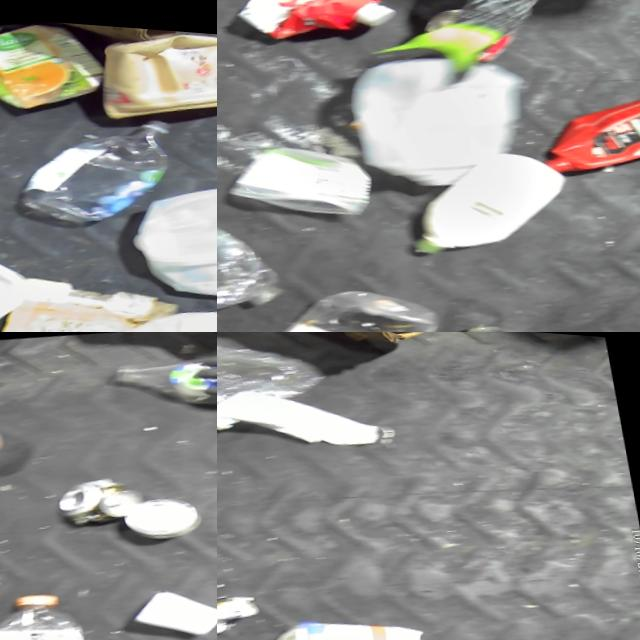can: (50, 466, 146, 531), (117, 488, 204, 545), (217, 579, 260, 640)
milk_jug: (342, 35, 539, 197), (120, 156, 217, 312)
non_white_jug: (529, 68, 640, 175), (230, 0, 400, 49)
plastic_bottle: (4, 103, 190, 235), (217, 332, 332, 455), (217, 186, 286, 331)
